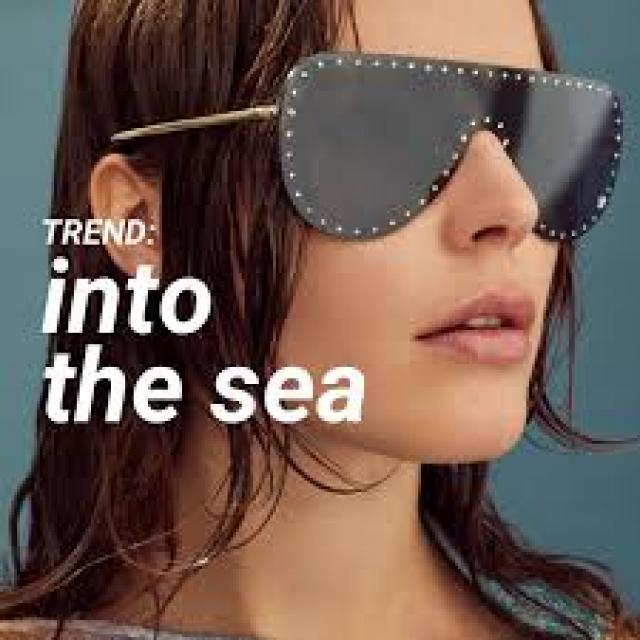suspicious-objects: (260, 37, 633, 245)
